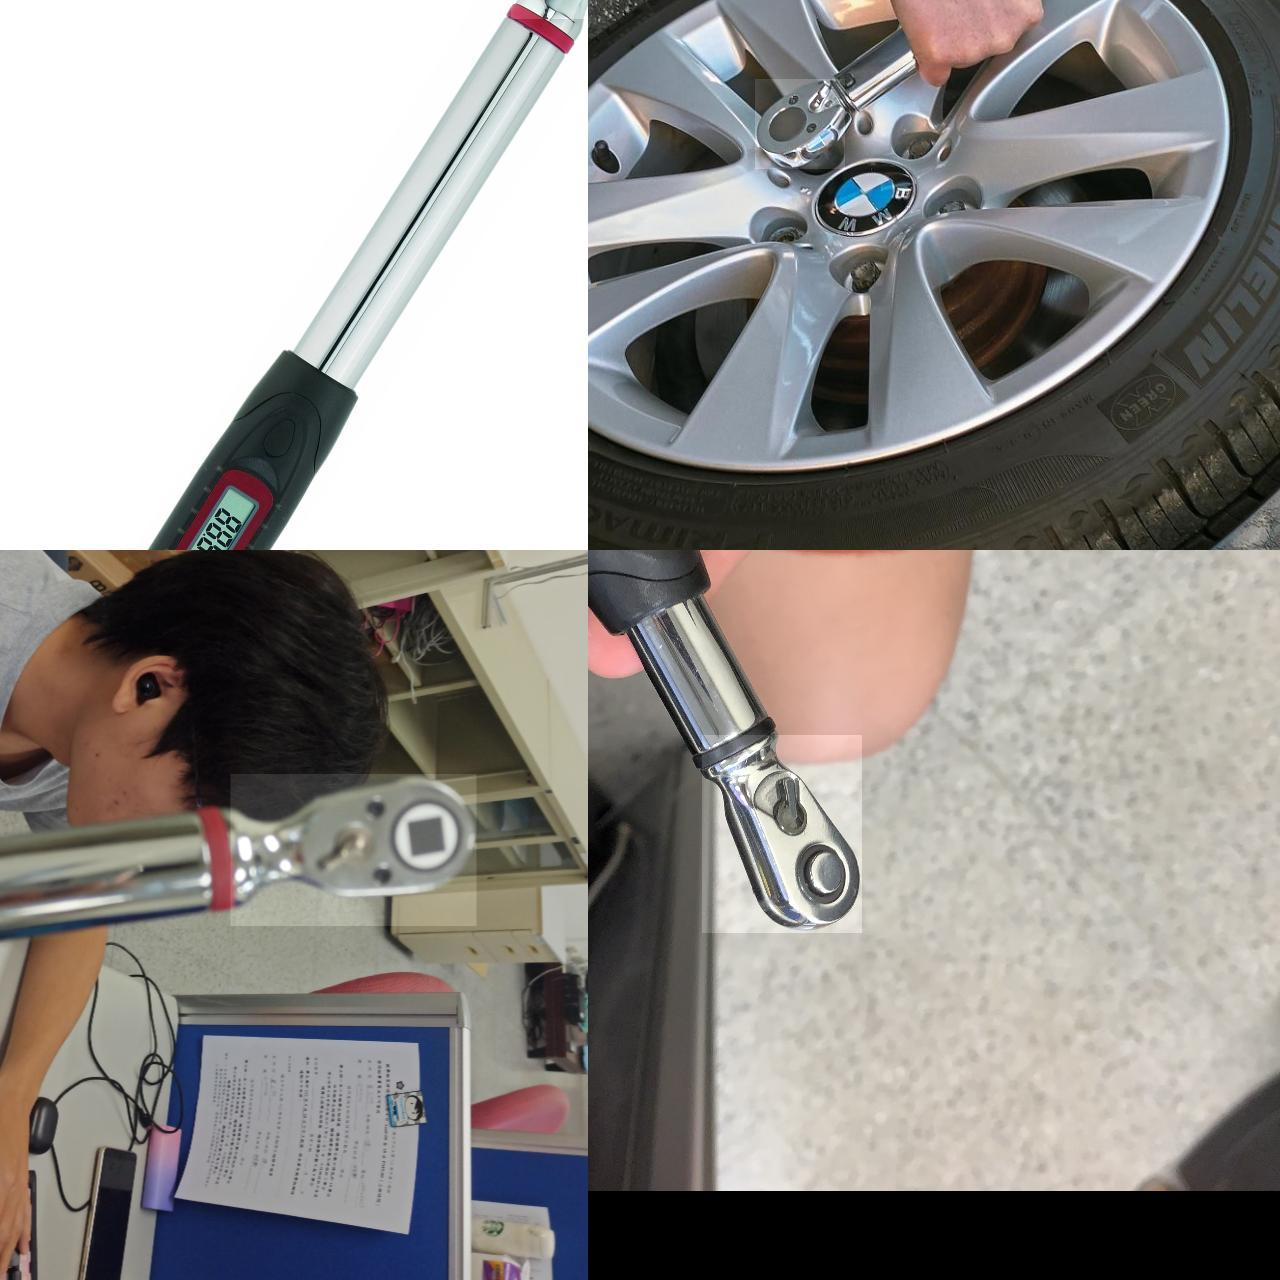Tool: (231, 774, 477, 926), (701, 735, 862, 933), (754, 79, 844, 169)
